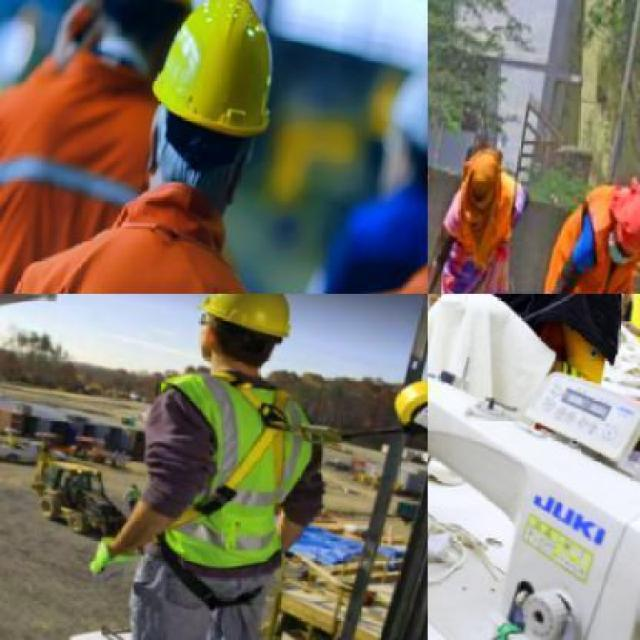Vest: (103, 344, 351, 602), (0, 146, 314, 292), (0, 21, 166, 292), (531, 177, 638, 292), (437, 171, 537, 275)
